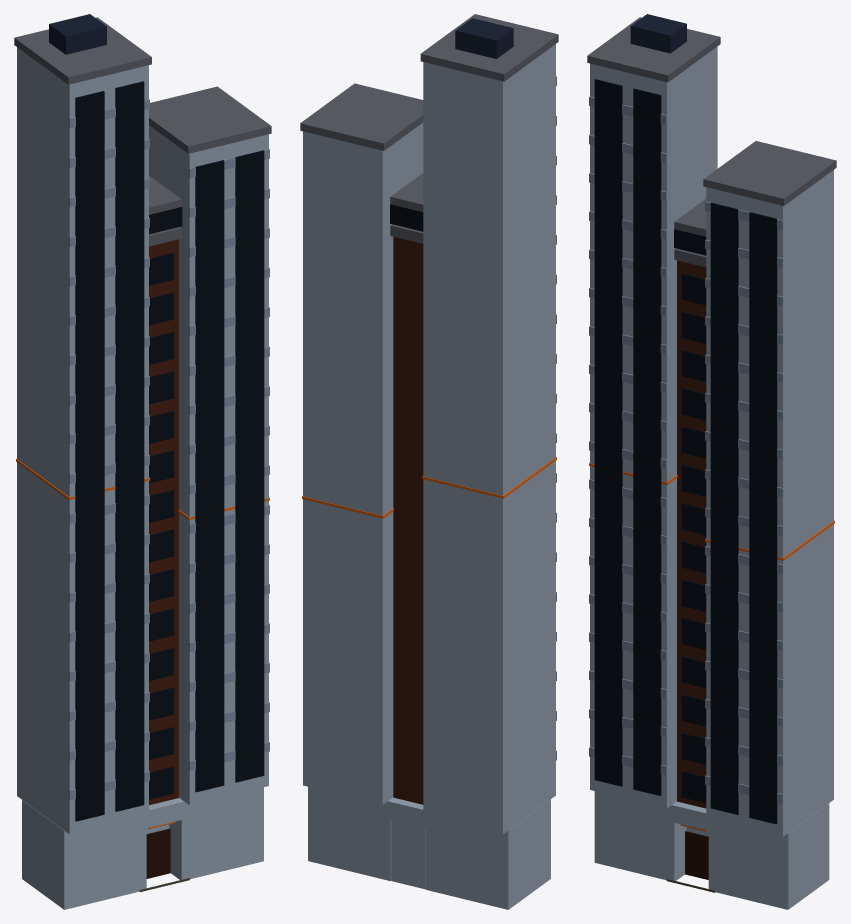
The model's file is pinnacle2.obj.
3 views of the same model, side by side, from view 1: azimuth 30°, elevation 25°; view 2: azimuth 150°, elevation 25°; view 3: azimuth 330°, elevation 25° (orthographic). The views are drawn at different scales.
Visible parts, largest first — view 1: windows, shafts, base-jambs, link-glazing, caps, spandrels, link, roof-plant, sky-bridge, entrance, portal-head, bridge-glazing; view 2: shafts, link, base-jambs, caps, portal-back, roof-plant, sky-bridge, window-lights, portal-head, bridge-glazing; view 3: windows, shafts, base-jambs, link-glazing, caps, spandrels, link, roof-plant, sky-bridge, entrance, portal-head, bridge-glazing.
Boxes of the visible parts, box(x1,y1,x2,y2) form: windows: box(75, 81, 264, 821); shafts: box(17, 47, 268, 834); base-jambs: box(22, 787, 263, 909); link-glazing: box(149, 253, 174, 799); caps: box(14, 17, 271, 227); spandrels: box(69, 99, 269, 800); link: box(149, 239, 178, 805); roof-plant: box(49, 14, 106, 54); sky-bridge: box(149, 175, 181, 246); entrance: box(146, 828, 170, 878); portal-head: box(146, 798, 181, 828); bridge-glazing: box(149, 207, 182, 234); shafts: box(303, 44, 555, 834); link: box(393, 236, 423, 804); base-jambs: box(308, 787, 550, 909); caps: box(300, 14, 558, 150); portal-back: box(391, 819, 425, 889); roof-plant: box(455, 18, 513, 58); sky-bridge: box(390, 173, 423, 243); window-lights: box(302, 457, 556, 518); portal-head: box(390, 798, 425, 827); bridge-glazing: box(390, 204, 423, 231); windows: box(594, 79, 777, 824); shafts: box(590, 46, 833, 836); base-jambs: box(594, 791, 829, 909); link-glazing: box(681, 273, 706, 802); caps: box(587, 17, 836, 205); spandrels: box(589, 96, 783, 803); link: box(677, 260, 706, 808); roof-plant: box(630, 14, 686, 53); sky-bridge: box(674, 199, 706, 267); entrance: box(685, 831, 708, 879); portal-head: box(674, 802, 708, 830); bridge-glazing: box(674, 229, 706, 255).
Size of the model in its own units: 6.92 by 27.84 by 3.21.
